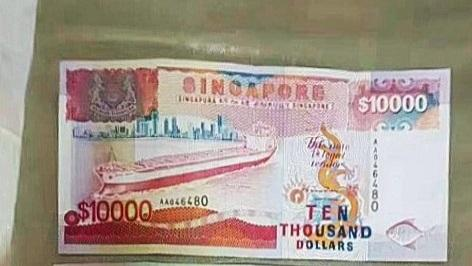10000SingaporeDollar: (59, 72, 448, 253)
